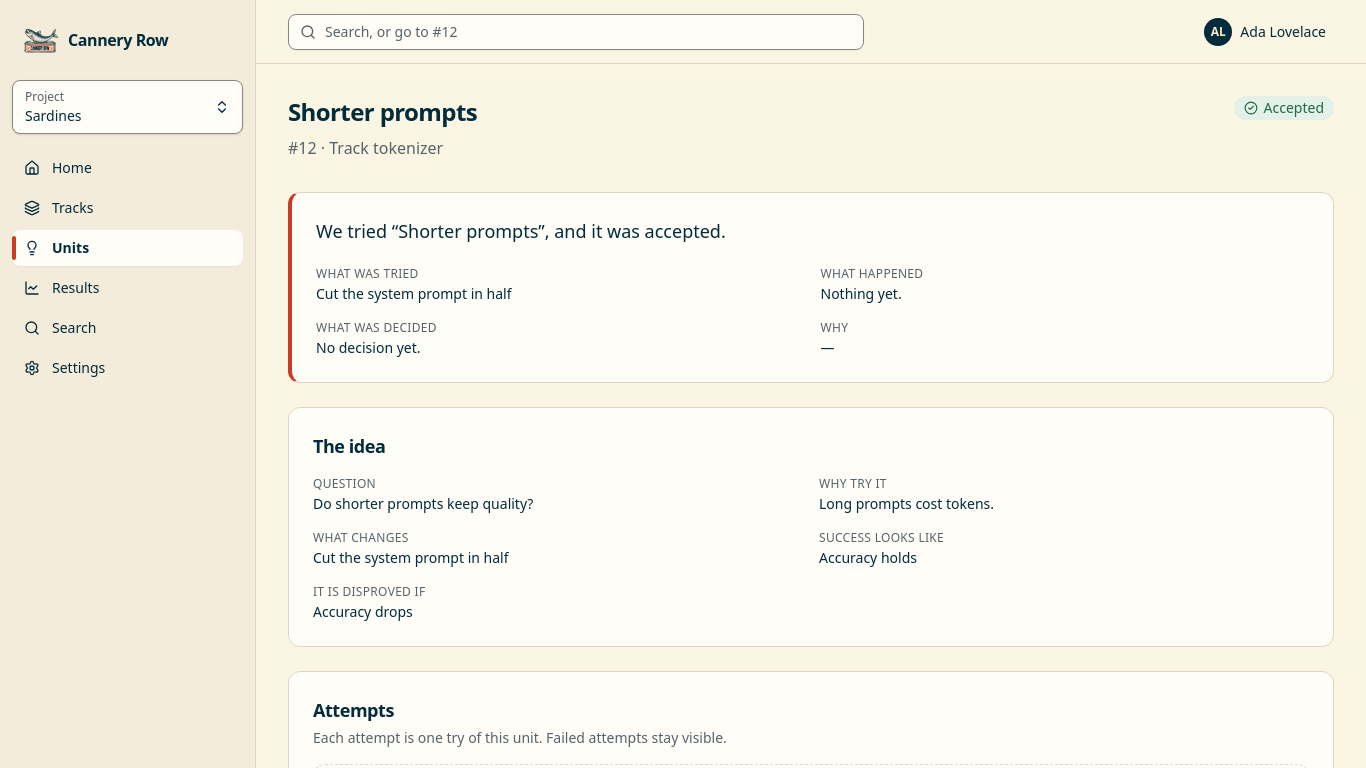
Test: the project switcher on a linked page › wins over the link, drops it from the address and remembers the choice
Check: the text with test id "outcome-sentence" shows "Shorter prompts", box [316,219,726,243]
Click the button with aria-label "Switch project". click: click(128, 107)
box: [12,80,243,134]
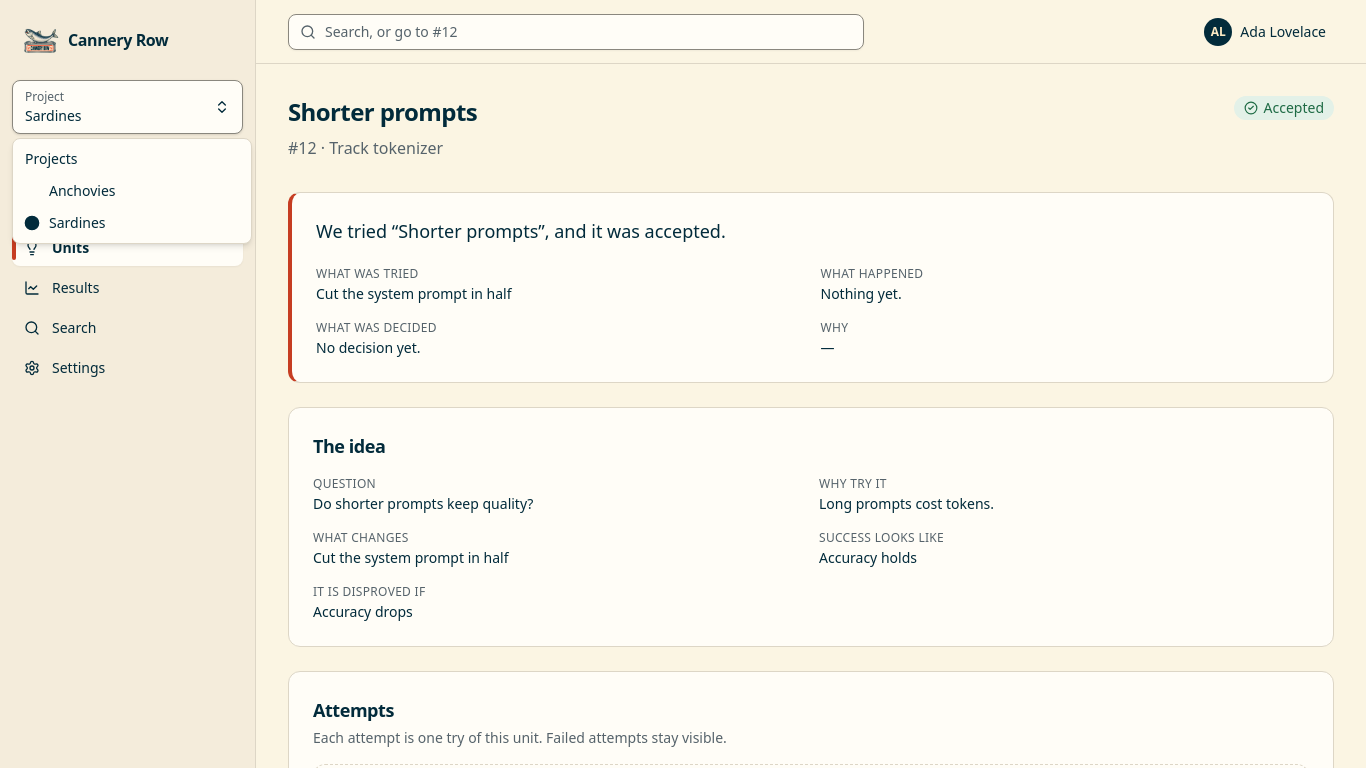
Click the menu item "Anchovies". click: click(82, 190)
box: [49,181,116,200]
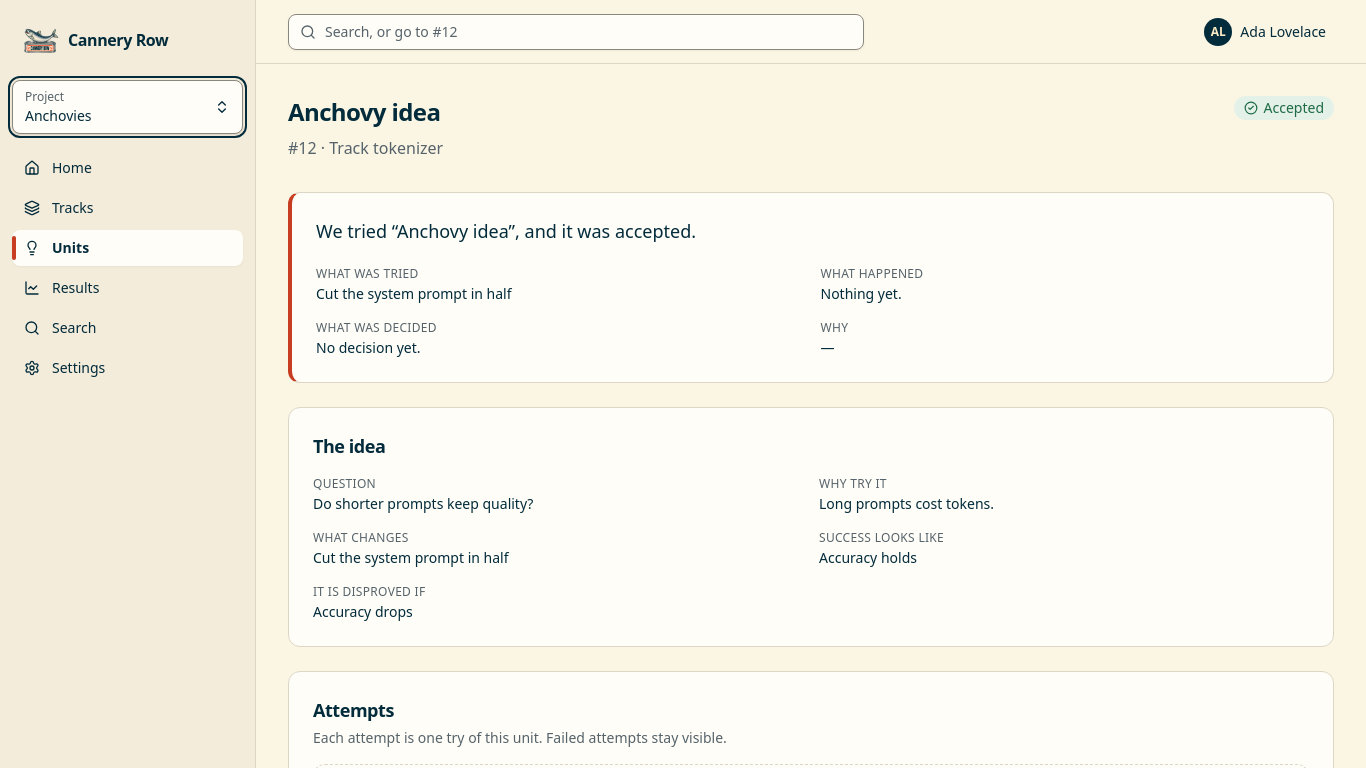
Check: the button with aria-label "Switch project" shows "Anchovies", box [12,80,243,134]
Check: the text with test id "outcome-sentence" shows "Anchovy idea", box [316,219,696,243]
